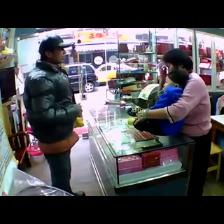person: (137, 49, 211, 195), (24, 35, 85, 195), (149, 70, 188, 109)
